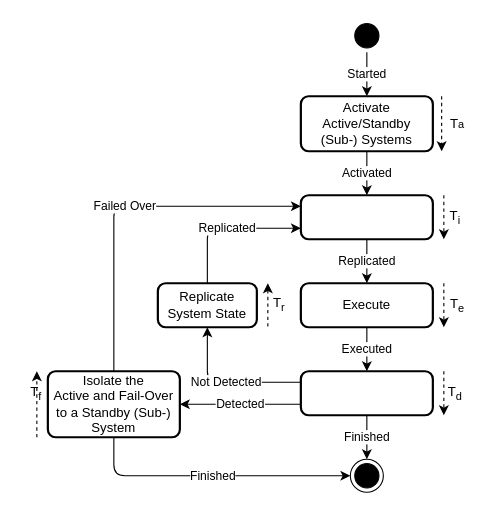
Some shapes in this 492 by 512 pixel diagram are drawn without their labels. Here are the shapes that lost their labels. From the top down, the box of each, then its label:
(299, 194, 433, 240): Replicate Input
(299, 370, 433, 416): Detect
